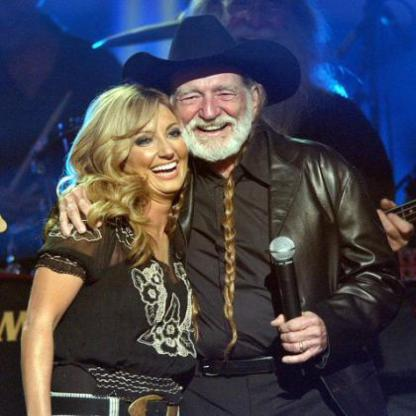face: (173, 43, 253, 162), (113, 88, 191, 202)
